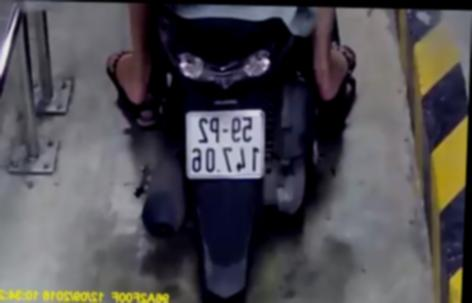License_Plate: (182, 105, 272, 182)
